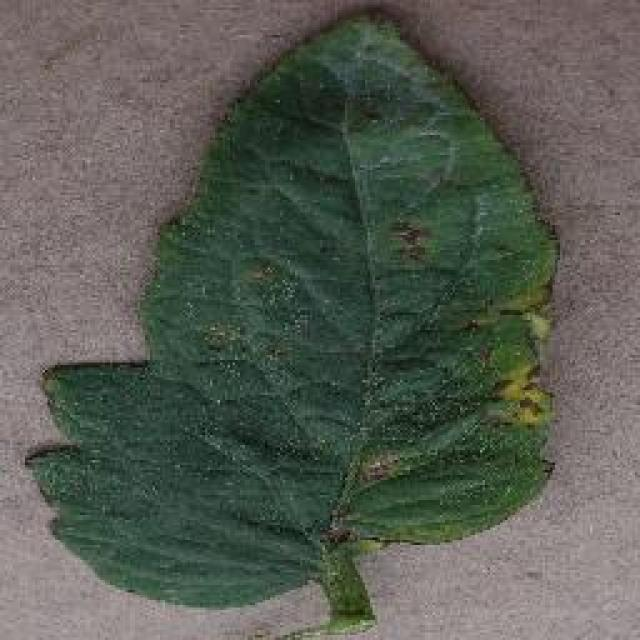Tomato bacterial spot leaf: (49, 9, 561, 619)
